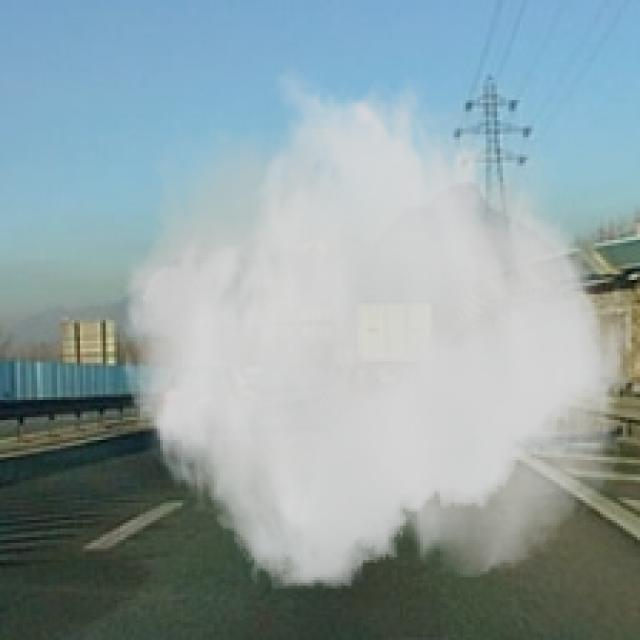Smoke: (117, 62, 632, 588)
